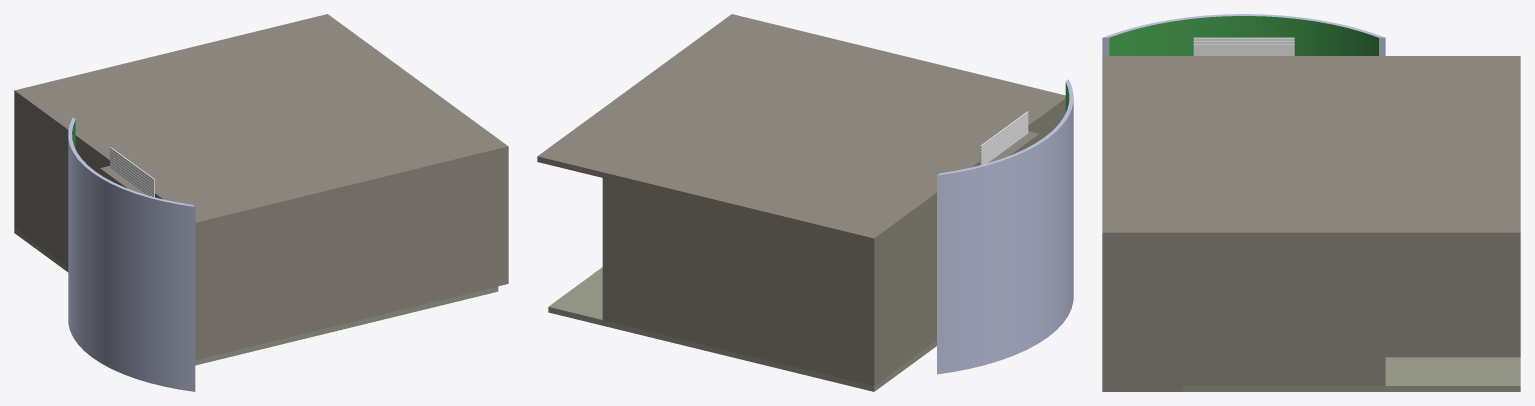
The model's file is appartement-final-color.dae.
3 renders of one model, left to right at view 1: azimuth 30°, elevation 25°; view 2: azimuth 150°, elevation 25°; view 3: azimuth 270°, elevation 25°, orthographic. The views are drawn at different scales.
Parts seen in each view (by area): view 1: Body_1 (×3), _3DGeom_1529, _3DGeom_123; view 2: Body_1 (×3), _3DGeom_1529, _3DGeom_123; view 3: Body_1 (×3), _3DGeom_1529, _3DGeom_124, _3DGeom_123.
Boxes of the visible parts, bbox=[...] form: Body_1 (×3): bbox=[14, 14, 508, 365]; _3DGeom_1529: bbox=[14, 96, 508, 359]; _3DGeom_123: bbox=[68, 117, 195, 391]; Body_1 (×3): bbox=[537, 14, 1065, 391]; _3DGeom_1529: bbox=[602, 104, 1065, 385]; _3DGeom_123: bbox=[937, 79, 1073, 374]; Body_1 (×3): bbox=[1102, 37, 1520, 391]; _3DGeom_1529: bbox=[1102, 238, 1520, 391]; _3DGeom_124: bbox=[1109, 16, 1378, 55]; _3DGeom_123: bbox=[1102, 14, 1385, 55].
Size of the model in its own units: 7.03 by 6.2 by 3.5.
